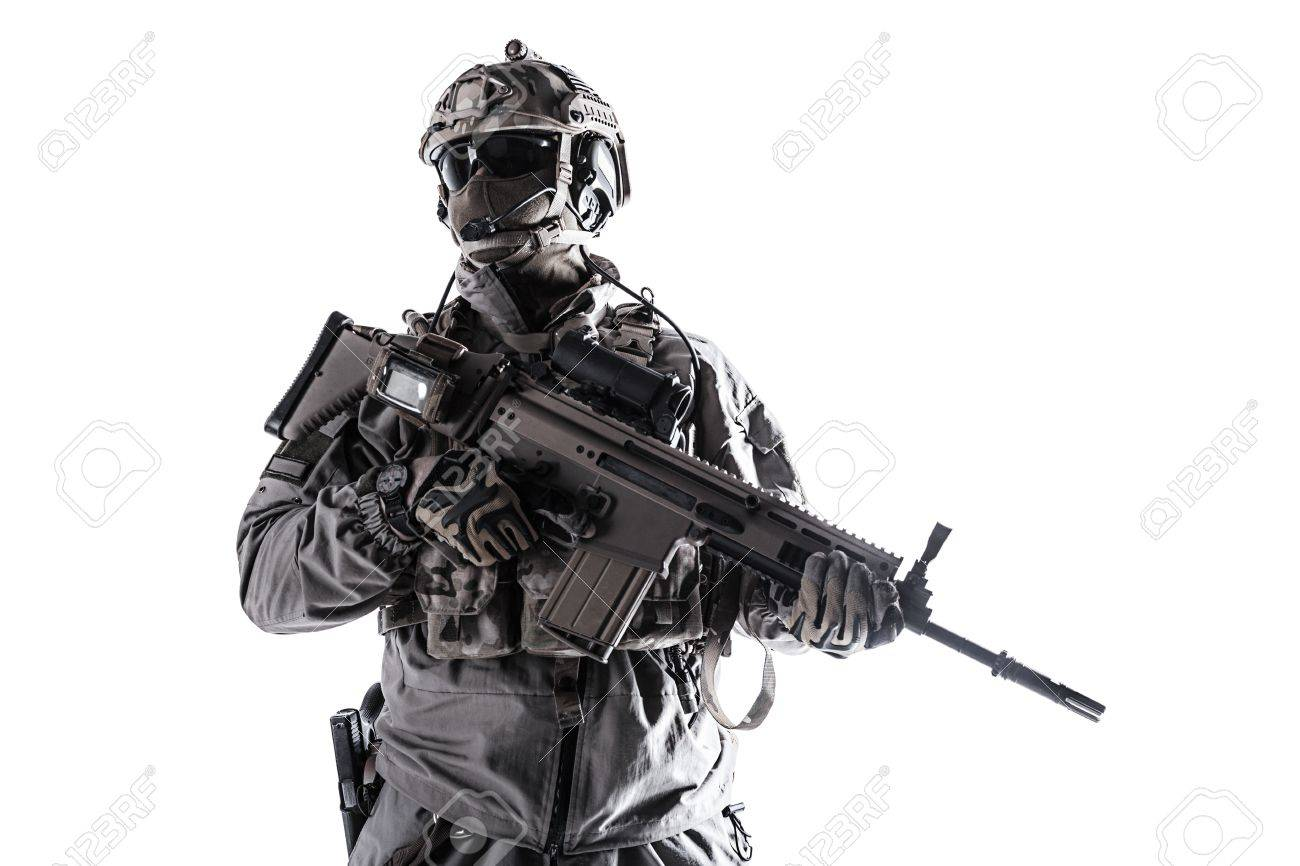Rifle: (270, 312, 1117, 730)
